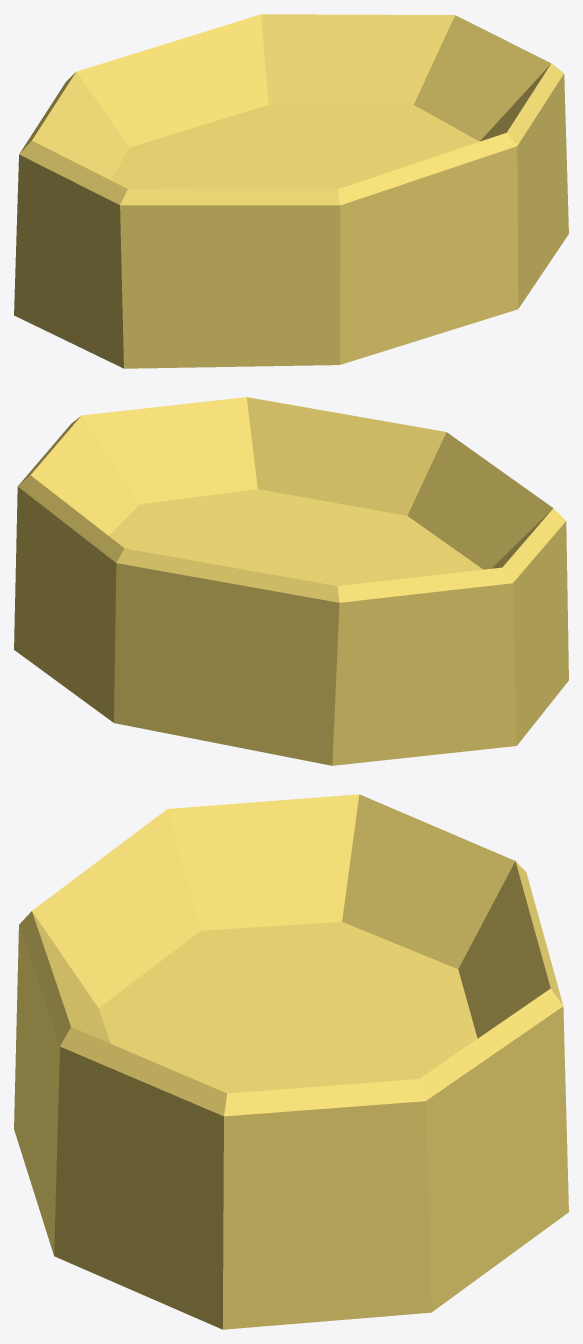
File: Dish.fbx
3 renders of one model, top to bottom at view 1: azimuth 30°, elevation 25°; view 2: azimuth 150°, elevation 25°; view 3: azimuth 270°, elevation 25°, orthographic. The views are drawn at different scales.
Parts seen in each view (by area): view 1: Dish; view 2: Dish; view 3: Dish.
Part boxes in pixels (<box>): Dish: <box>14,14,568,368</box>; Dish: <box>14,397,568,765</box>; Dish: <box>14,794,568,1329</box>.
Bounding box in the file's own units: 21.63 × 15.89 × 7.15.
